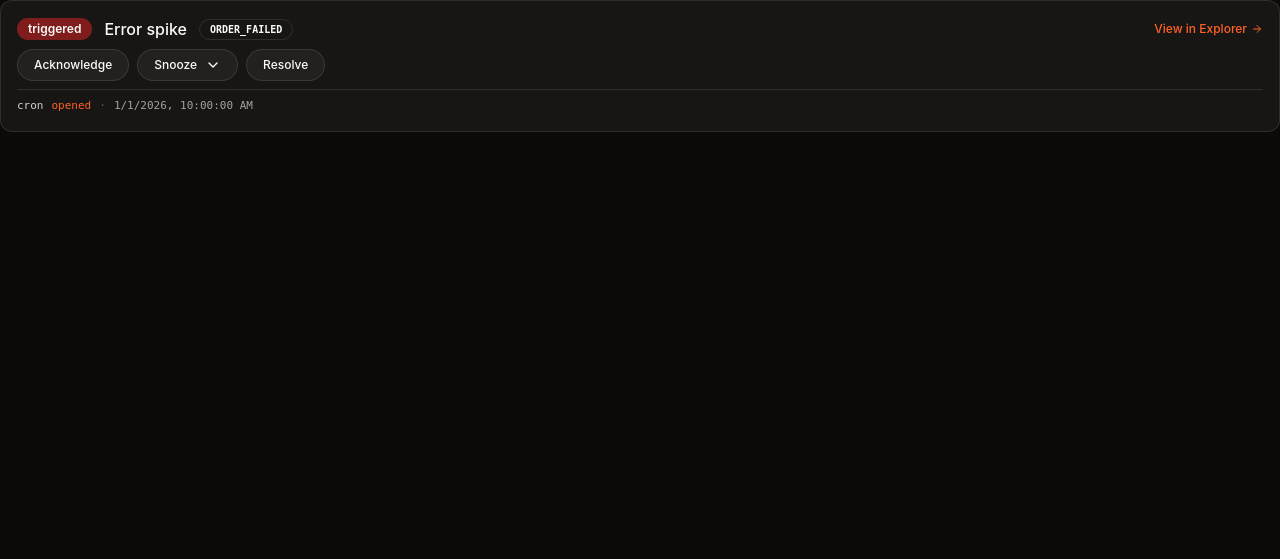
Scenario: IncidentList — SNOOZE_DURATIONS and STATUS_VARIANT module-level re-import › re-imports and verifies all four snooze duration menu items render
What coordinates should you click on to do the following:
click the button "Snooze"
I would click on:
 (188, 65)
Its box is [137,49,238,81].
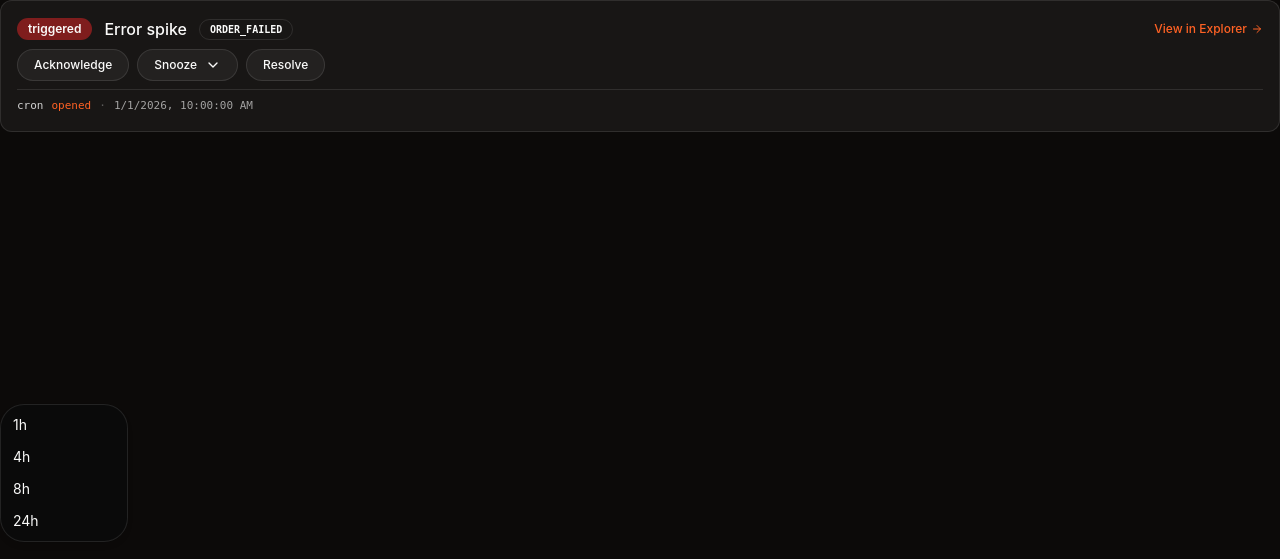
Expected: the menu item "1h" is shown, [13,416,27,433]
Expected: the menu item "4h" is shown, [13,448,30,465]
Expected: the menu item "8h" is shown, [13,480,30,497]
